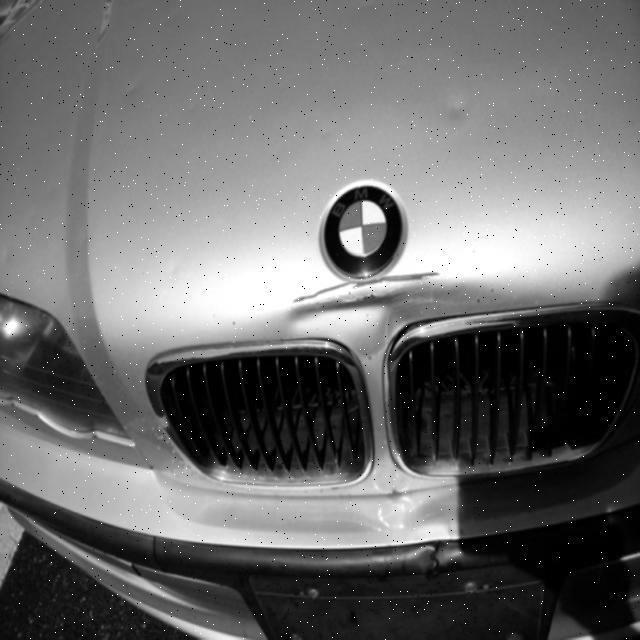bonnet-dent: (78, 0, 567, 372)
